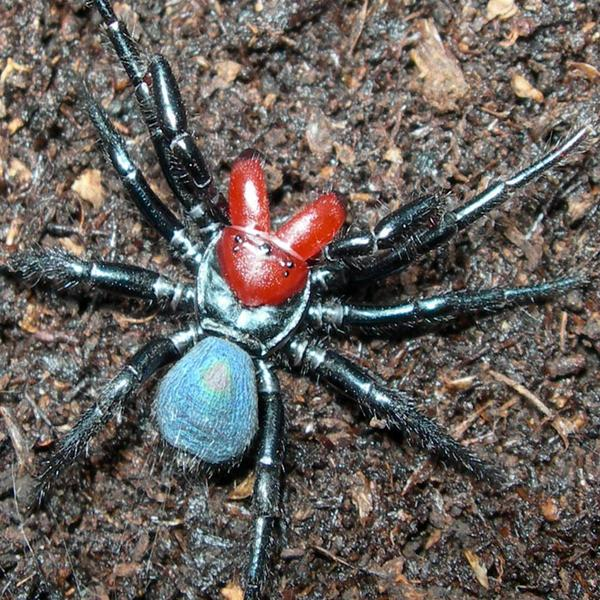Red Headed Mouse Spider: (43, 17, 564, 572)
